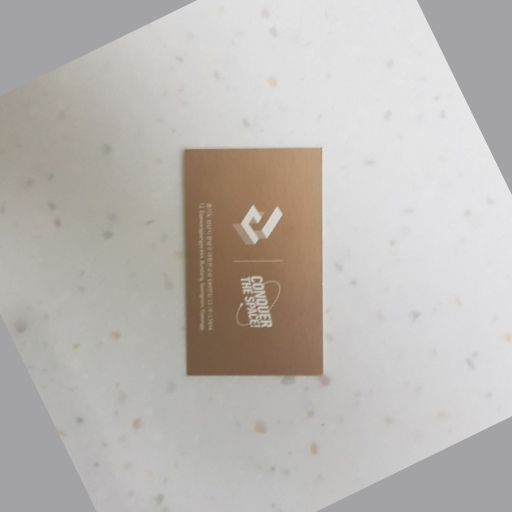Paper_2: (167, 138, 352, 394)
